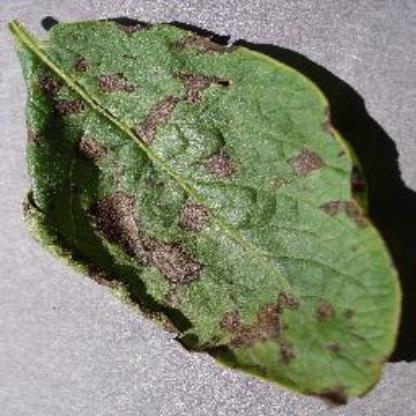Early-Blight: (11, 13, 404, 407)
